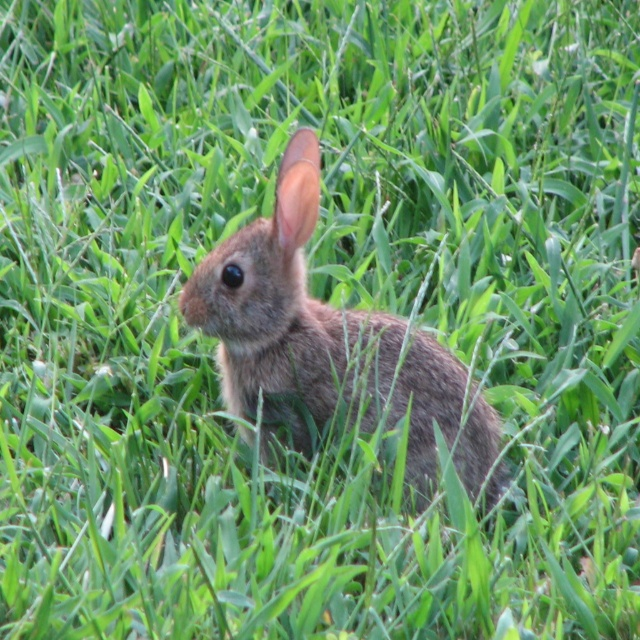Rabbit: (175, 126, 505, 574)
